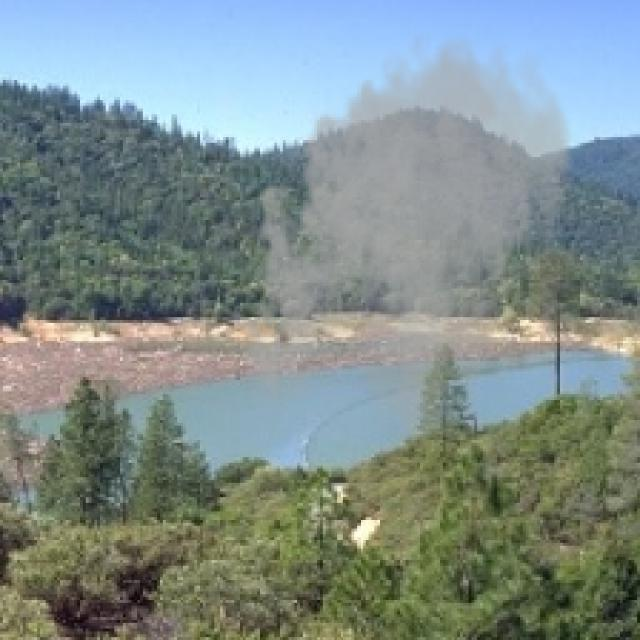smoke: (234, 23, 580, 440)
